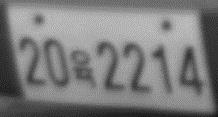0: (42, 38, 69, 87)
1: (148, 42, 177, 95)
2: (121, 41, 153, 92), (95, 40, 125, 92), (18, 37, 46, 86)
4: (178, 46, 206, 96)
육: (69, 49, 97, 88)
